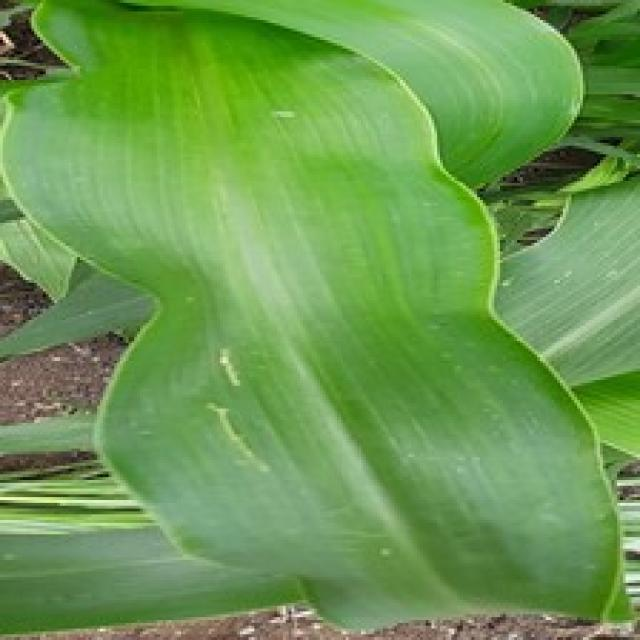Corn: (0, 0, 637, 634), (0, 0, 586, 189)
